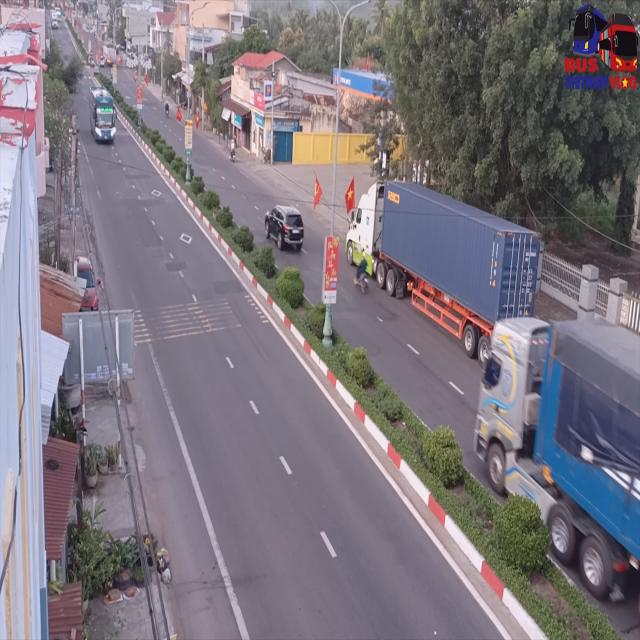bus: (88, 88, 116, 143)
car: (266, 207, 305, 253)
truck: (475, 315, 640, 607), (347, 185, 549, 374)
